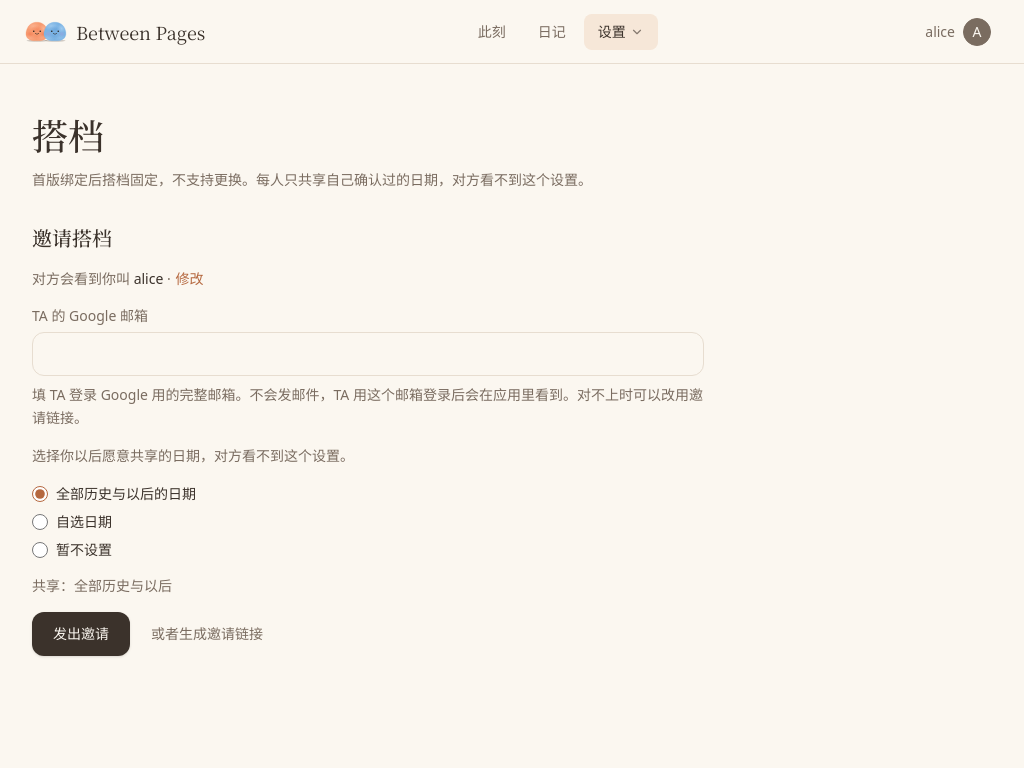
Test: RelationshipPanel › names a bound caller’s refusal
Click the button "或者生成邀请链接" at (207, 634), box [150,623,264,645]
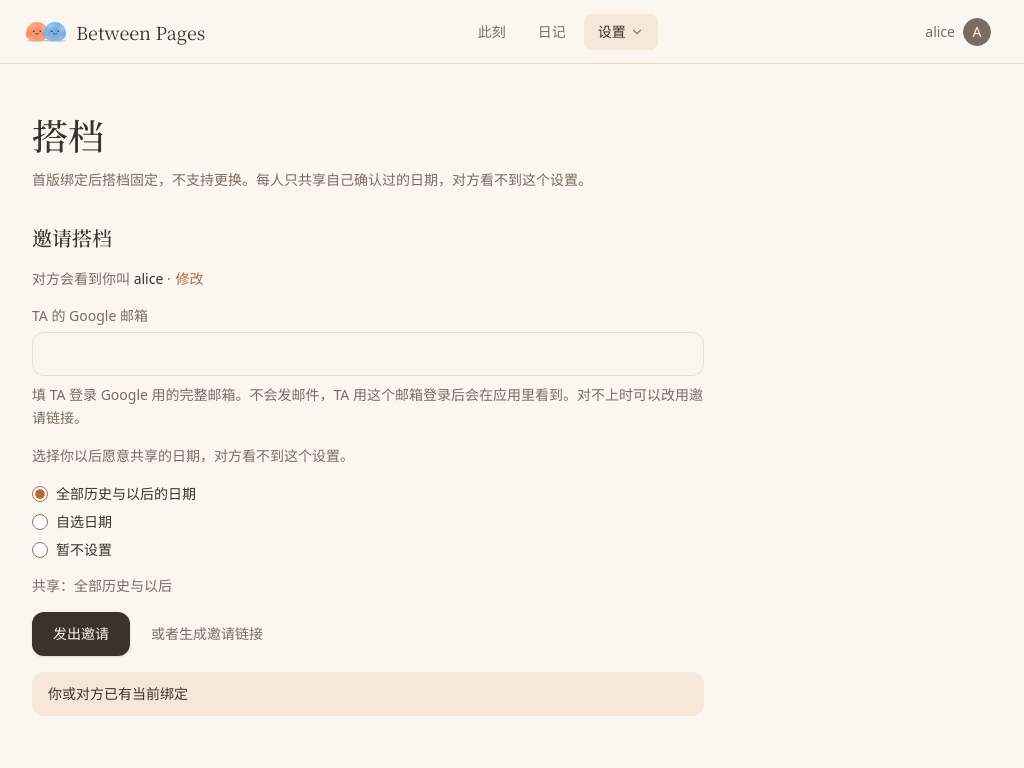
Check: the message reads "你或对方已有当前绑定", box [48,684,188,703]
